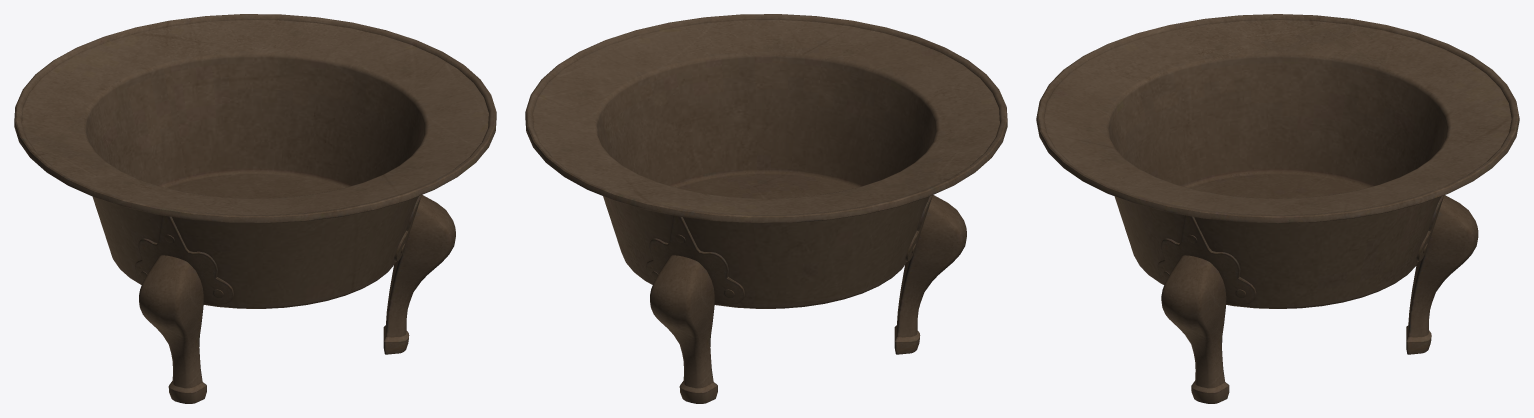
Rendered from gb_brazier.glb.
3 renders of one model, left to right at view 1: azimuth 30°, elevation 25°; view 2: azimuth 150°, elevation 25°; view 3: azimuth 270°, elevation 25°, orthographic.
Parts seen in each view (by area): view 1: SM_GNJ_Brazier; view 2: SM_GNJ_Brazier; view 3: SM_GNJ_Brazier.
Part boxes in pixels (left/top/right/bottom): SM_GNJ_Brazier: left=14, top=14, right=496, bottom=403; SM_GNJ_Brazier: left=525, top=14, right=1007, bottom=403; SM_GNJ_Brazier: left=1036, top=14, right=1519, bottom=403.
Size of the model in its own units: 0.3209 by 0.1703 by 0.3209.
Materials: 1 (1 with a texture image).
